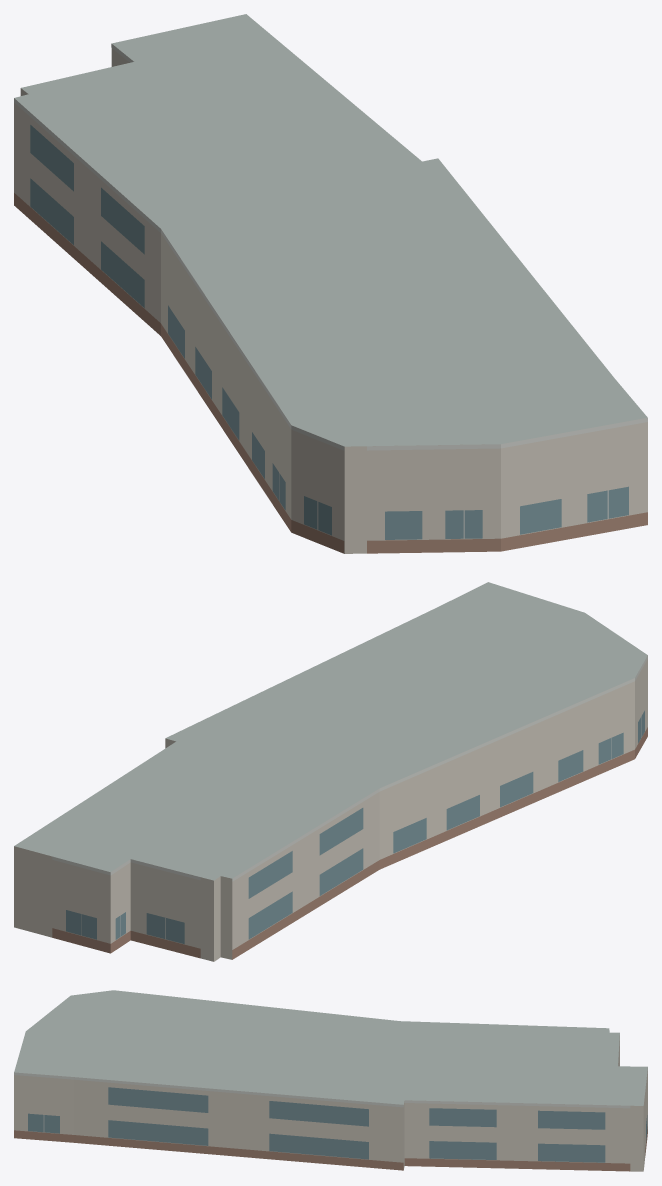
The model's file is survey-upis-32570257.glb.
The picture shows the model from 3 angles, top to bottom: view 1: azimuth 30°, elevation 25°; view 2: azimuth 150°, elevation 25°; view 3: azimuth 270°, elevation 25°; orthographic projection. The views are drawn at different scales.
Parts seen in each view (by area): view 1: survey-upis-32570257.tmp; view 2: survey-upis-32570257.tmp; view 3: survey-upis-32570257.tmp.
Part boxes in pixels (x1,y1,x2,y2): survey-upis-32570257.tmp: (14, 14, 647, 553); survey-upis-32570257.tmp: (14, 582, 647, 961); survey-upis-32570257.tmp: (14, 990, 647, 1171).
Size of the model in its own units: 23.05 by 6.1 by 53.3.
